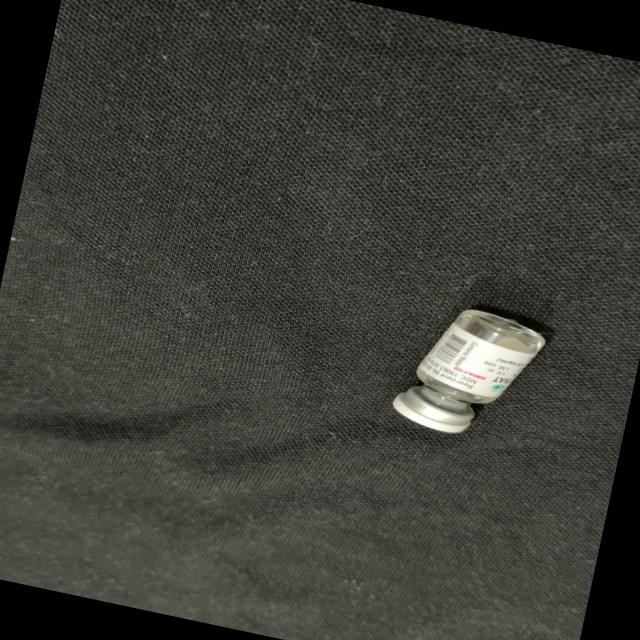fentanl_citrat: (391, 298, 546, 444)
